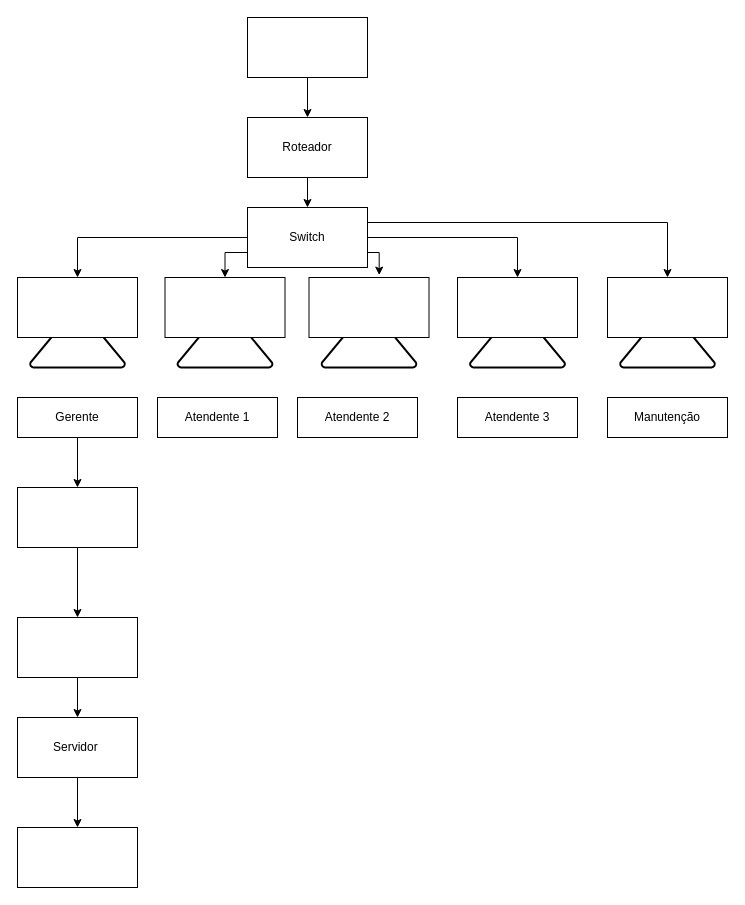
Image size: 745x905. Some labels were removed from this diagram. The centre of each missing label's shape, as x and y in pixels:
"Computador Manutenção" goes at [77,517].
"Impressora" goes at [77,857].
"Impressora de rede" goes at [77,647].
"Internet" goes at [307,47].
